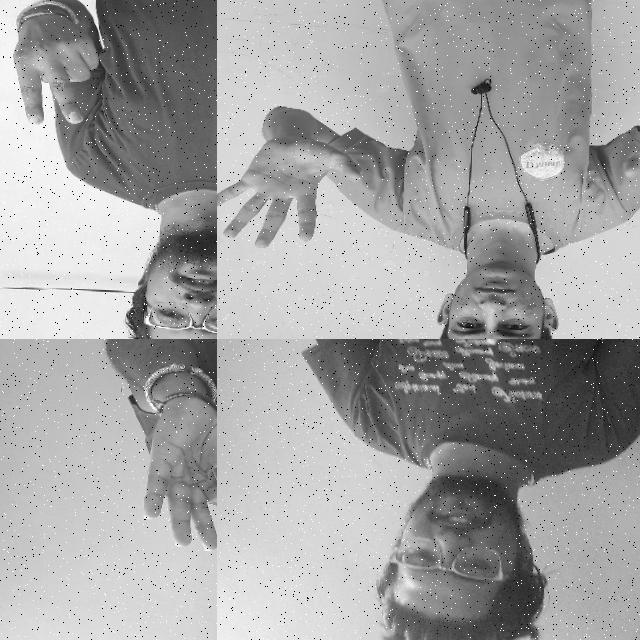Five Fathers: (297, 339, 577, 366)
Moutza: (217, 115, 373, 260)
Okay: (129, 385, 217, 557)
Reversed Victory: (3, 0, 103, 139)
